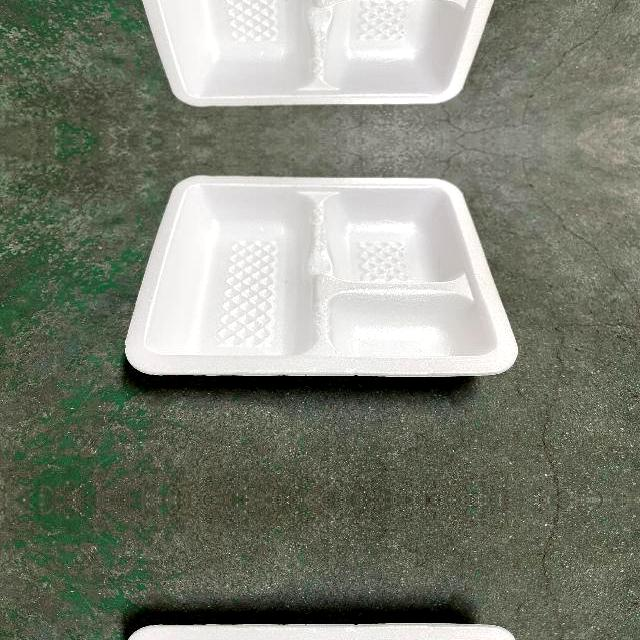Styrofoam: (125, 173, 520, 377), (125, 174, 518, 375), (124, 0, 519, 107), (143, 0, 494, 106)
